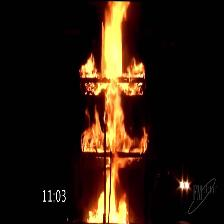fire: (94, 1, 123, 224)
